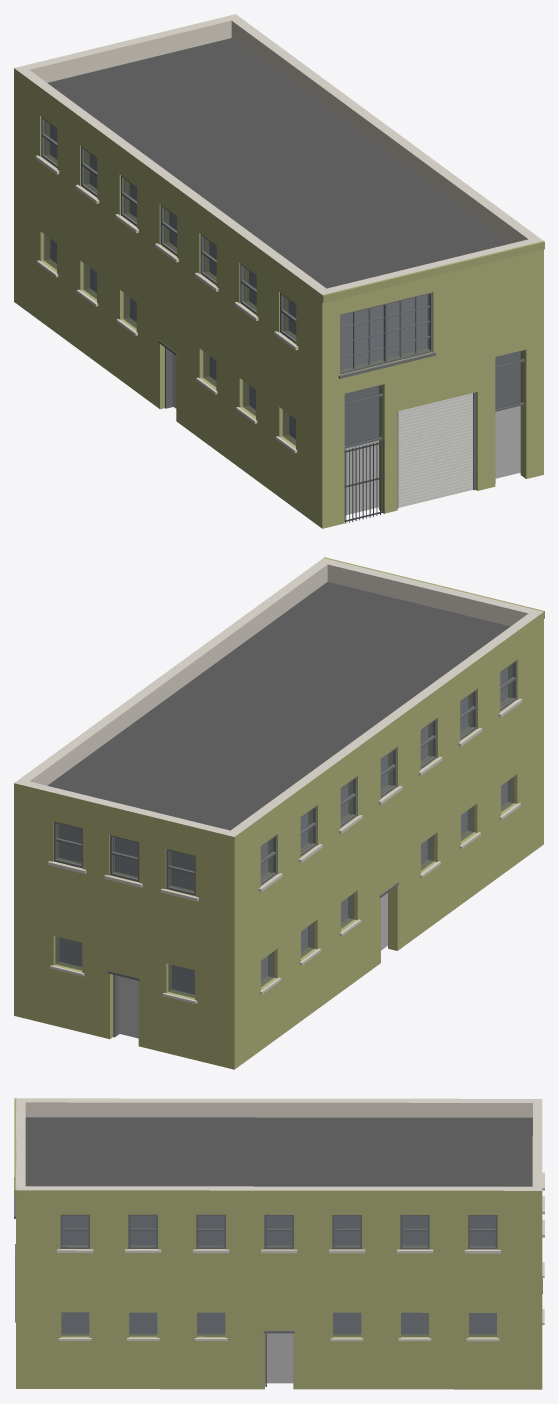
The model's file is exterior.glb.
3 views of the same model, one above another, from view 1: azimuth 30°, elevation 25°; view 2: azimuth 150°, elevation 25°; view 3: azimuth 270°, elevation 25° (orthographic). The views are drawn at different scales.
Parts seen in each view (by area): view 1: shell, roof, shadow-proxy, glazing, storefront, frames, trim, relief-0; view 2: shell, roof, glazing, shadow-proxy, frames, trim; view 3: shell, roof, shadow-proxy, glazing, frames, trim.
Part boxes in pixels (x1,y1,x2,y2): shell: (14,14,543,528); roof: (47,38,510,288); shadow-proxy: (50,124,520,515); glazing: (44,120,524,445); storefront: (158,340,524,523); frames: (41,117,432,374); trim: (35,155,435,452); relief-0: (322,241,544,303); shell: (14,558,543,1069); roof: (47,582,510,830); glazing: (55,664,513,998); shadow-proxy: (59,668,507,1038); frames: (53,660,516,895); trim: (48,698,522,1003); shell: (16,1098,542,1389); roof: (25,1117,532,1186); shadow-proxy: (61,1216,496,1383); glazing: (61,1216,496,1336); frames: (60,1214,497,1249); trim: (14,1172,544,1341).
Bounding box in the file's own units: 7.94 × 7.78 × 18.84.
